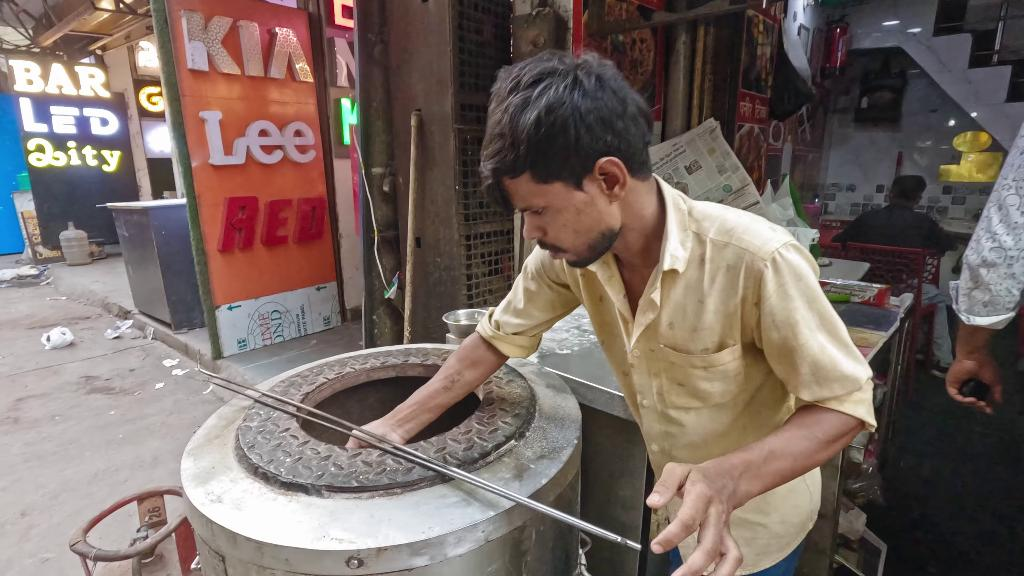garbage: (44, 325, 74, 348), (108, 319, 136, 338)
